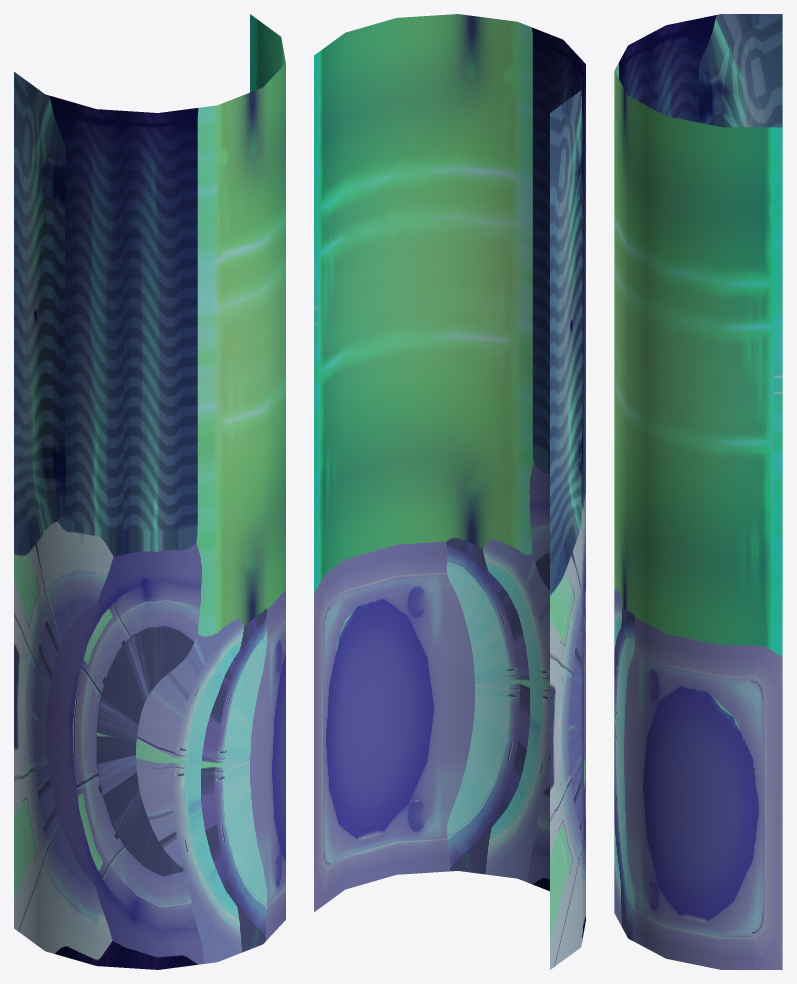
File: Lava.fbx
3 renders of one model, left to right at view 1: azimuth 30°, elevation 25°; view 2: azimuth 150°, elevation 25°; view 3: azimuth 270°, elevation 25°, orthographic.
Visible parts, largest first — view 1: exp_tubo_interior; view 2: exp_tubo_interior; view 3: exp_tubo_interior.
Part boxes in pixels (left/top/right/bottom): exp_tubo_interior: left=14, top=14, right=285, bottom=969; exp_tubo_interior: left=314, top=14, right=585, bottom=969; exp_tubo_interior: left=614, top=14, right=782, bottom=969.
Size of the model in its own units: 155 by 539 by 97.32.
Materials: 1 (1 with a texture image).
